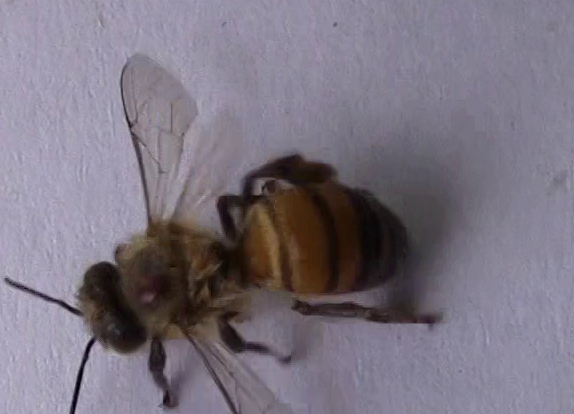Varroa destructor: (135, 268, 172, 307)
